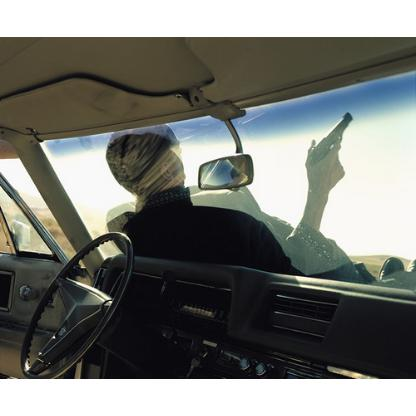gun: (306, 110, 356, 186)
